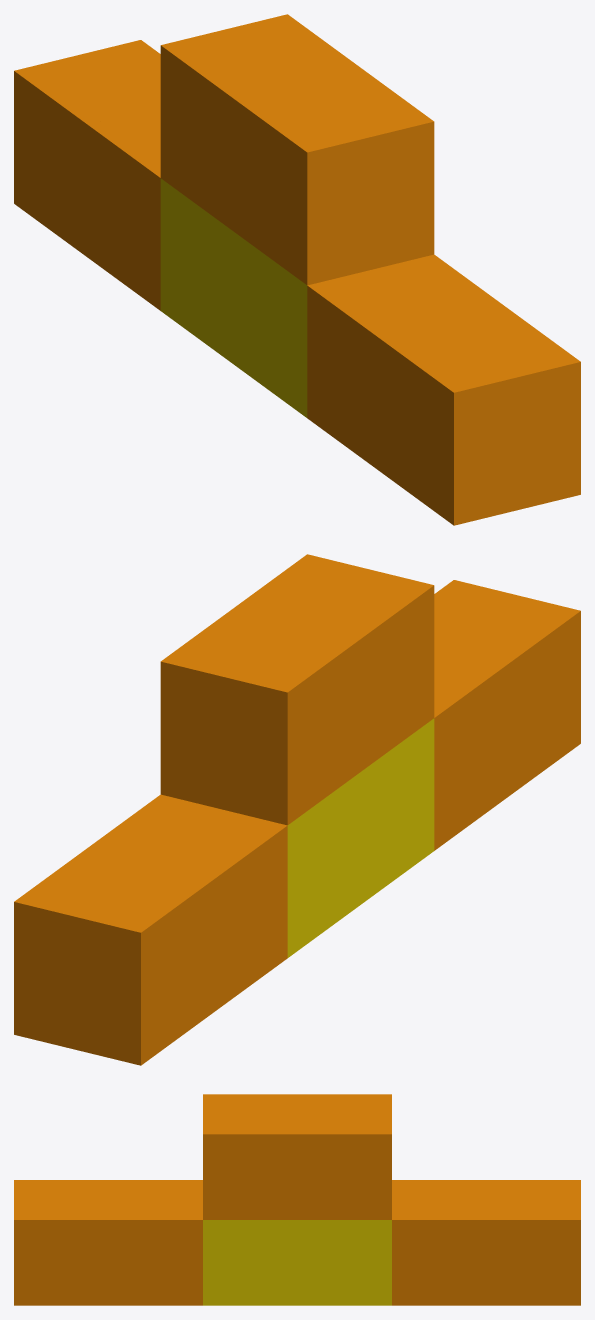
The model's file is AA_Proj_FireflyFlameTop.fbx.
The picture shows the model from 3 angles, top to bottom: view 1: azimuth 30°, elevation 25°; view 2: azimuth 150°, elevation 25°; view 3: azimuth 270°, elevation 25°; orthographic projection. The views are drawn at different scales.
Parts seen in each view (by area): view 1: Cube.082, Cube.079, Cube.078, Cube.083, Cube.074, Cube.075, Cube.076, Cube.077; view 2: Cube.083, Cube.074, Cube.075, Cube.082, Cube.079, Cube.078, Cube.077, Cube.076; view 3: Cube.083, Cube.082, Cube.079, Cube.078, Cube.075, Cube.074, Cube.077, Cube.076.
Part boxes in pixels (bbox=[...]): Cube.082: bbox=[234, 68, 434, 285]; Cube.079: bbox=[380, 308, 580, 525]; Cube.078: bbox=[307, 254, 507, 471]; Cube.083: bbox=[160, 14, 360, 231]; Cube.074: bbox=[14, 40, 160, 256]; Cube.075: bbox=[87, 106, 160, 310]; Cube.076: bbox=[160, 178, 233, 364]; Cube.077: bbox=[234, 232, 307, 417]; Cube.083: bbox=[160, 608, 360, 825]; Cube.074: bbox=[14, 848, 214, 1065]; Cube.075: bbox=[87, 794, 287, 1011]; Cube.082: bbox=[234, 554, 434, 771]; Cube.079: bbox=[434, 580, 580, 796]; Cube.078: bbox=[434, 646, 507, 850]; Cube.077: bbox=[361, 718, 434, 904]; Cube.076: bbox=[287, 772, 360, 957]; Cube.083: bbox=[297, 1094, 391, 1219]; Cube.082: bbox=[203, 1094, 297, 1219]; Cube.079: bbox=[14, 1180, 108, 1305]; Cube.078: bbox=[108, 1180, 202, 1305]; Cube.075: bbox=[392, 1180, 486, 1305]; Cube.074: bbox=[486, 1180, 580, 1305]; Cube.077: bbox=[203, 1220, 297, 1305]; Cube.076: bbox=[297, 1220, 391, 1305].
Size of the model in its own units: 200 by 400 by 1200.
